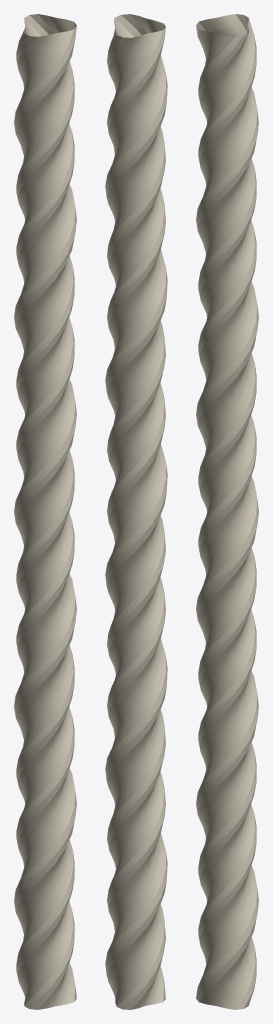
Rendered from middle_pole (1).fbx.
3 renders of one model, left to right at view 1: azimuth 90°, elevation 25°; view 2: azimuth 210°, elevation 25°; view 3: azimuth 270°, elevation 25°, orthographic.
Visible parts, largest first — view 1: Circle; view 2: Circle; view 3: Circle.
Part boxes in pixels (x1,y1,x2,y2): Circle: (14, 14, 76, 1009); Circle: (105, 14, 167, 1009); Circle: (196, 14, 258, 1009).
Bounding box in the file's own units: 293 × 293 × 5000.
